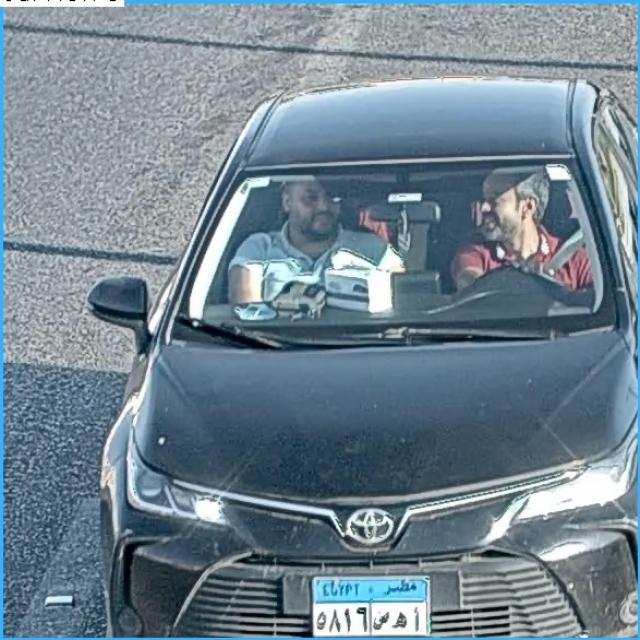windshield: (168, 166, 608, 326)
